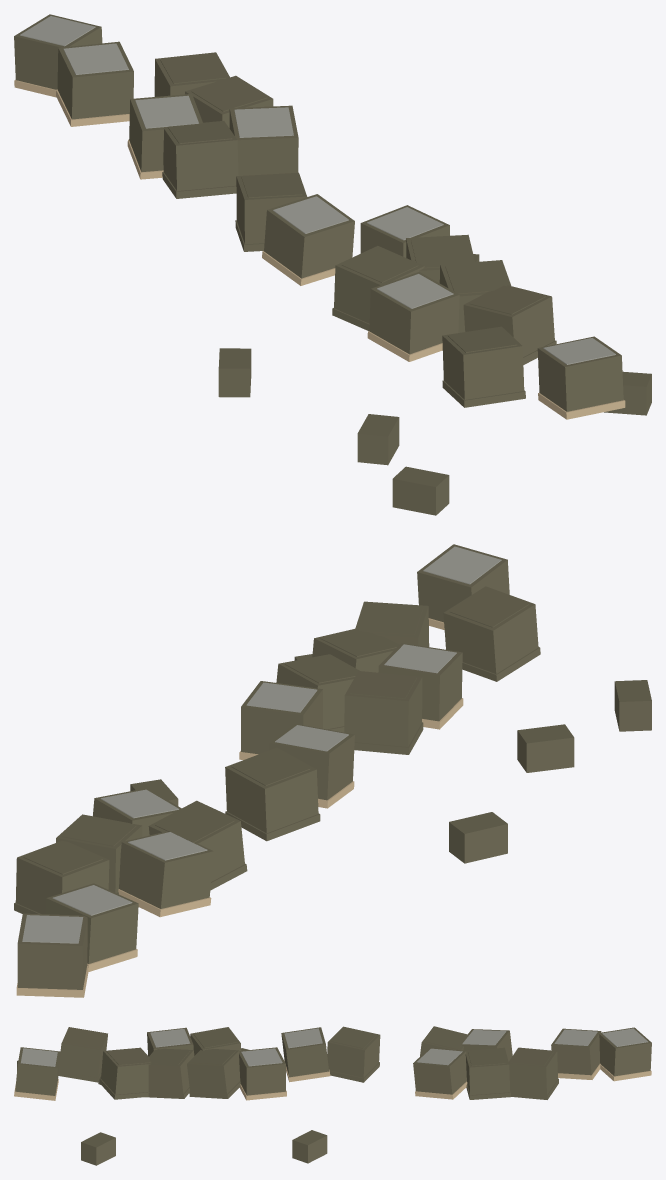
The model's file is SM_CargaCombustible_Destrozado_LOD1.fbx.
3 renders of one model, top to bottom at view 1: azimuth 30°, elevation 25°; view 2: azimuth 150°, elevation 25°; view 3: azimuth 270°, elevation 25°, orthographic. The views are drawn at different scales.
Visible parts, largest first — view 1: SM_carga_vagon_v9_LOD1; view 2: SM_carga_vagon_v9_LOD1; view 3: SM_carga_vagon_v9_LOD1.
Part boxes in pixels (x1,y1,x2,y2): SM_carga_vagon_v9_LOD1: [14, 14, 651, 515]; SM_carga_vagon_v9_LOD1: [14, 544, 651, 997]; SM_carga_vagon_v9_LOD1: [14, 1026, 651, 1165].
Size of the model in its own units: 6.78 by 2.34 by 18.35.
